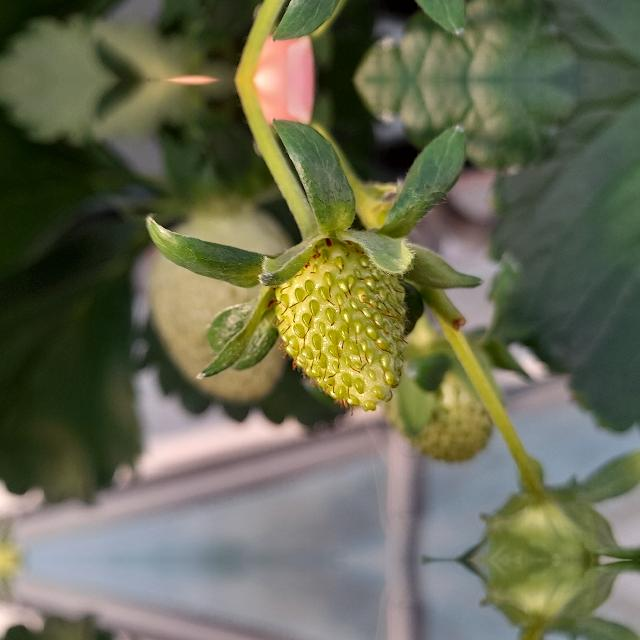Health_25: (273, 238, 412, 414)
